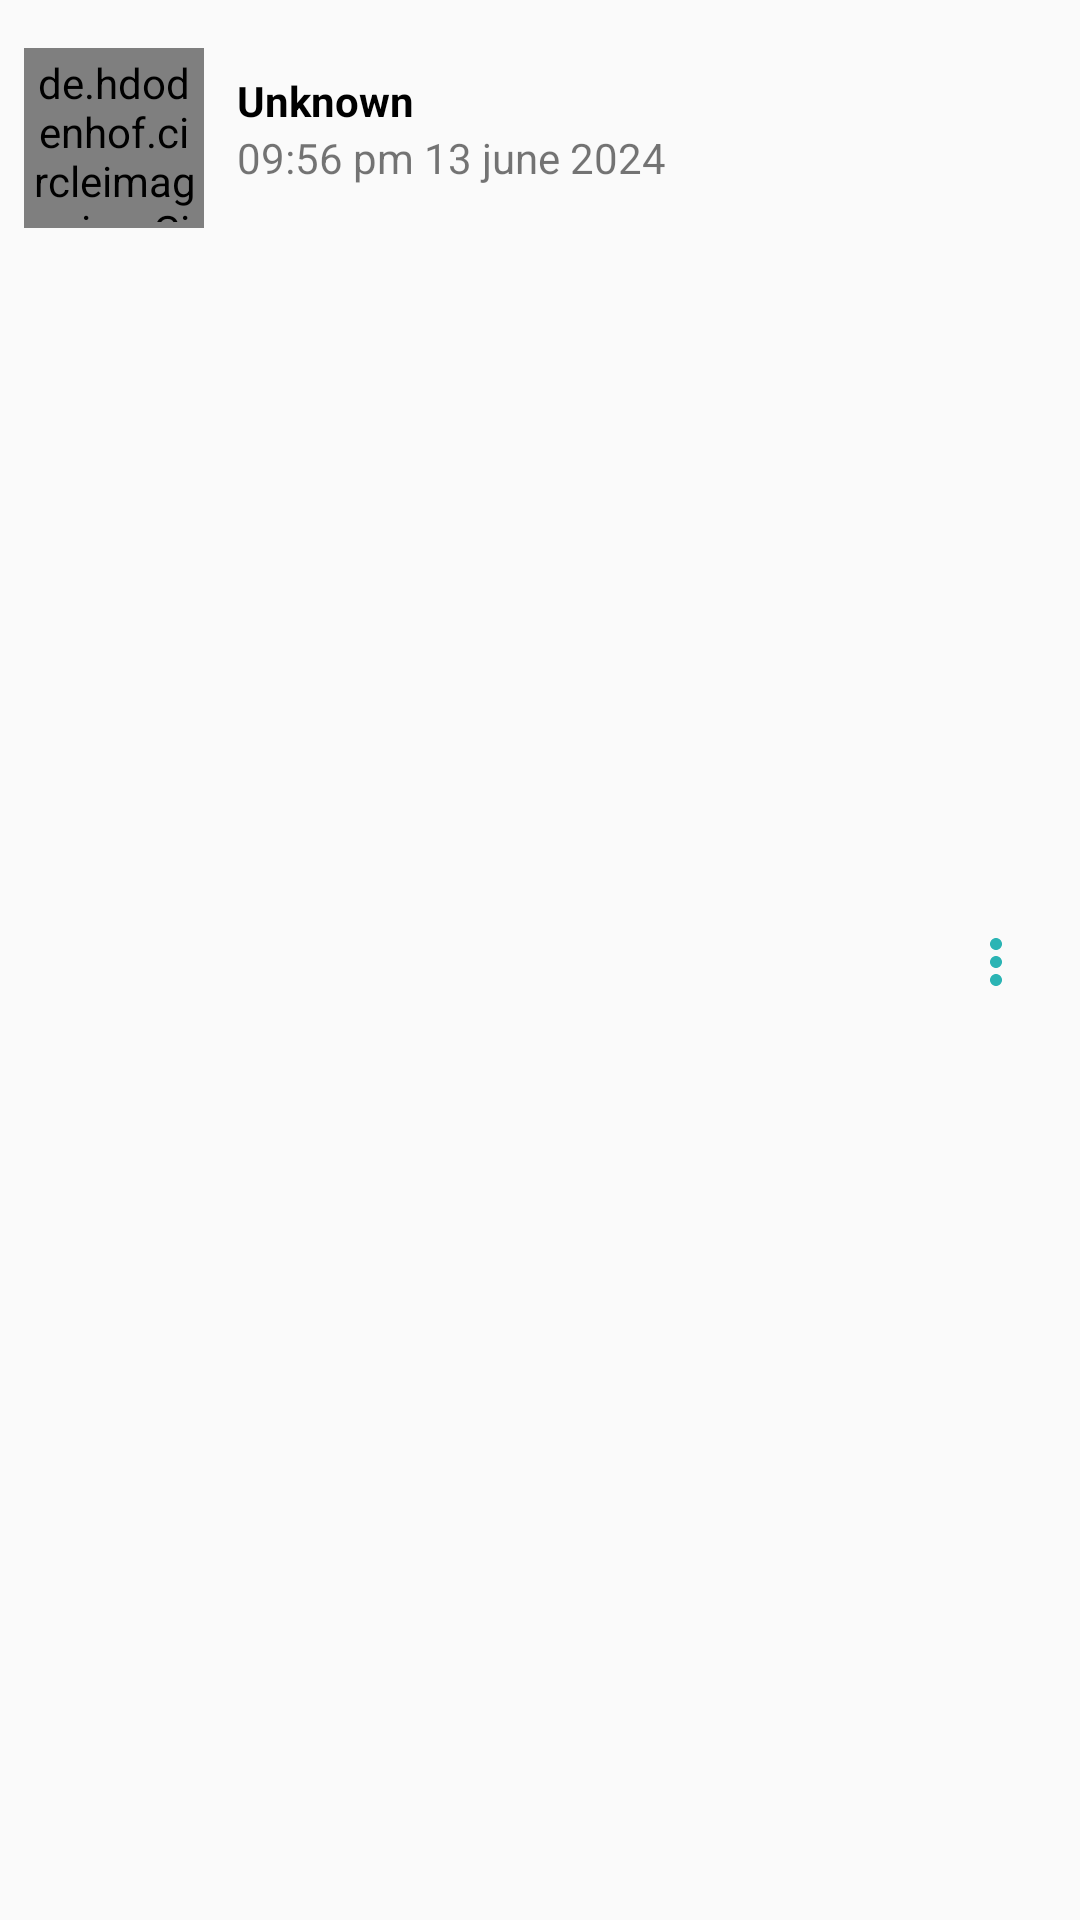

Icon click points for this 1080×1920 phone screenshot, format point (x, y):
vertical more: point (996, 962)
